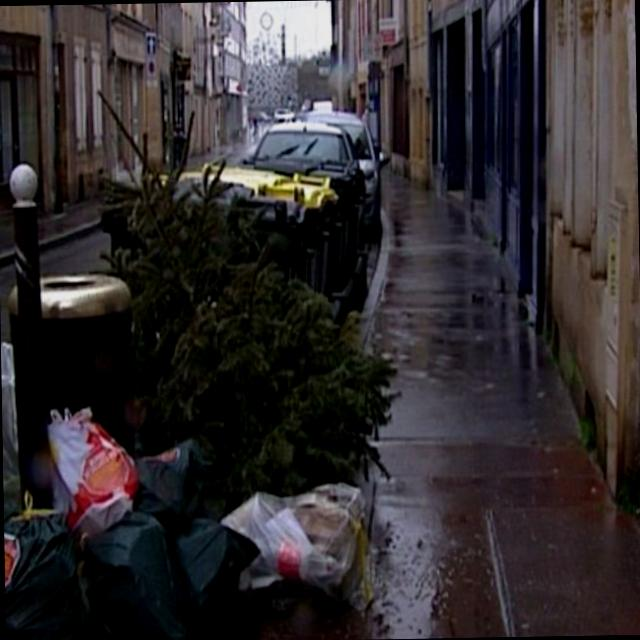garbage: (1, 382, 422, 640)
